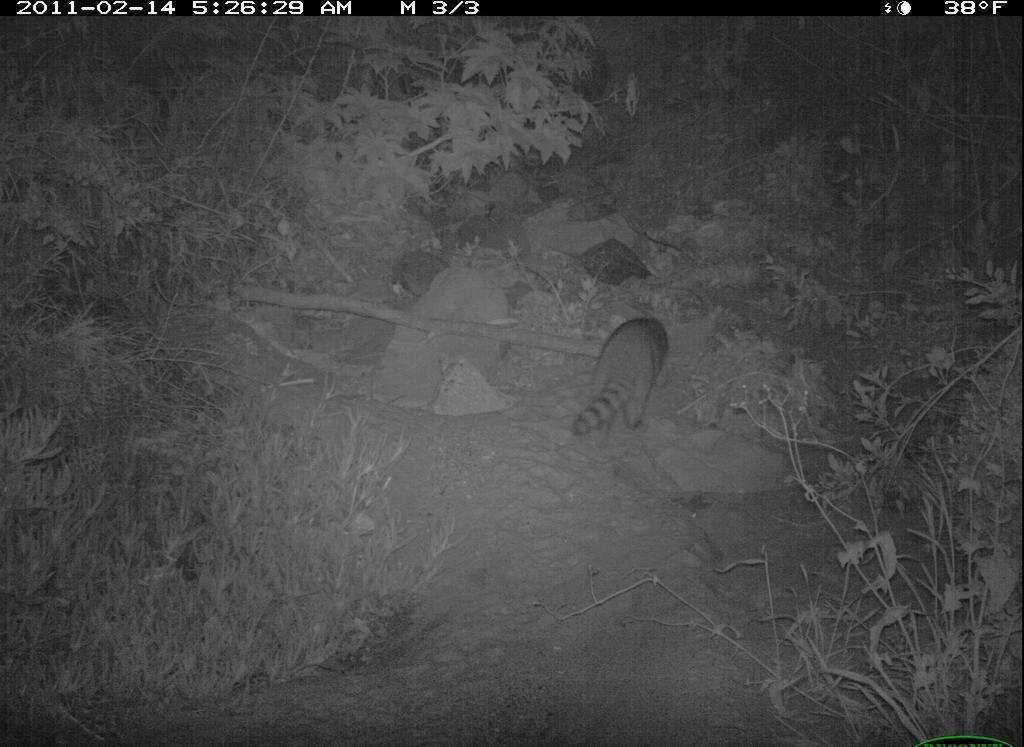raccoon: (575, 305, 673, 463)
